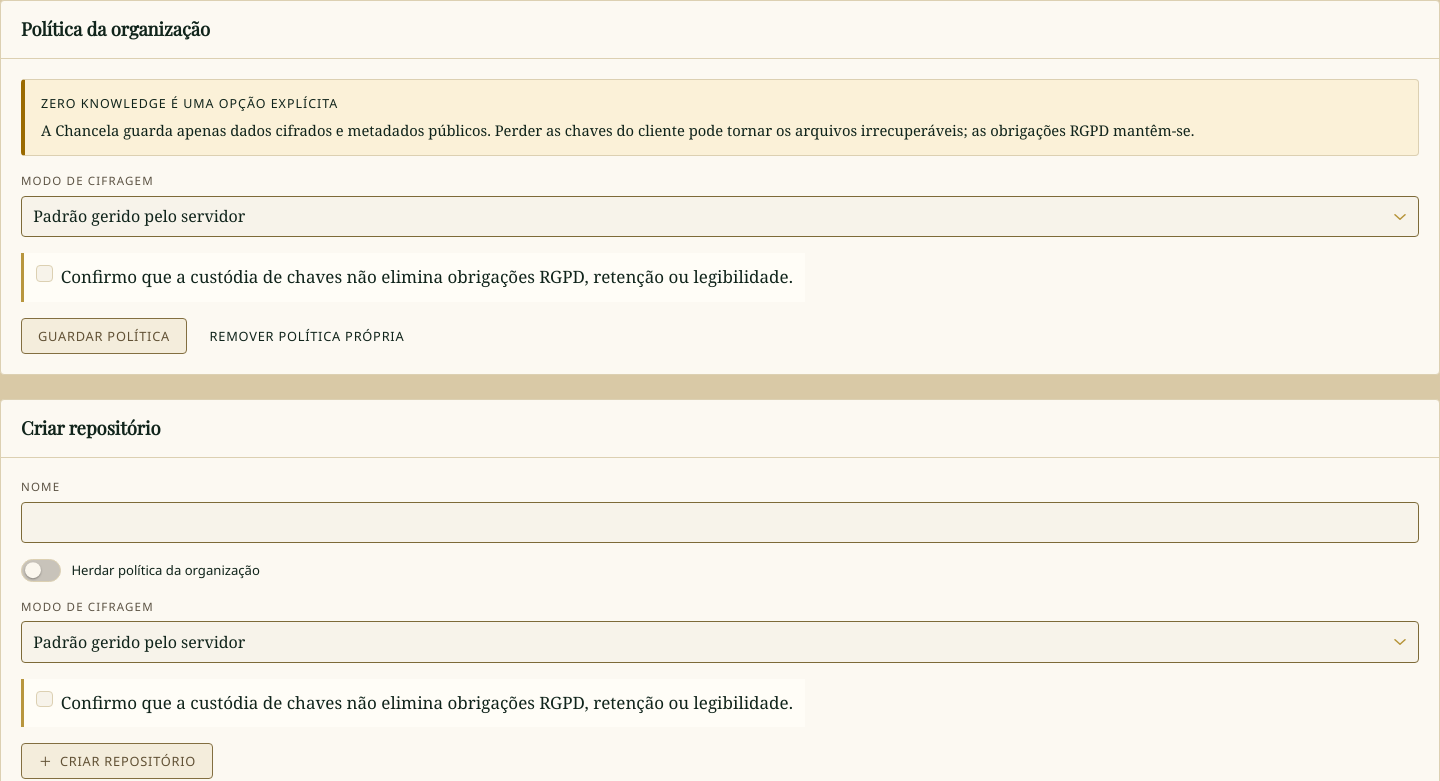
Test: TenantPolicyEditor › reveals custody options only for zero knowledge, and the split plan only when chosen
Select "Zero knowledge gerido pelo cliente" in the dropdown labelled "Modo de cifragem" below "Zero knowledge é uma opção explícita": (720,216) left=21, top=196, right=1419, bottom=237
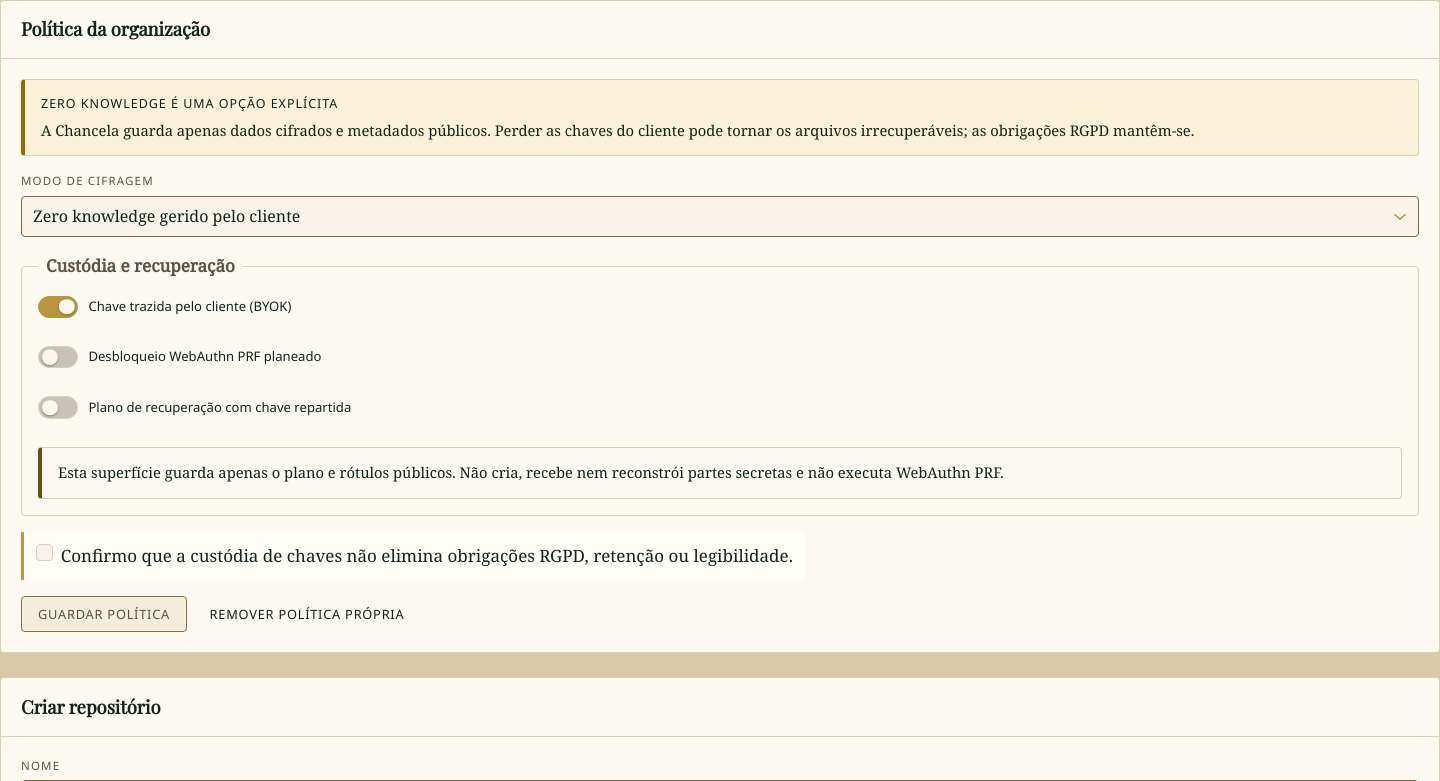
Expected: the field labelled "Limiar necessário" is not shown
Expected: the text "Custódia e recuperação" is shown, left=38, top=253, right=243, bottom=280
Click the switch labelled "Plano de recuperação com chave repartida": (195,408) left=38, top=396, right=351, bottom=419
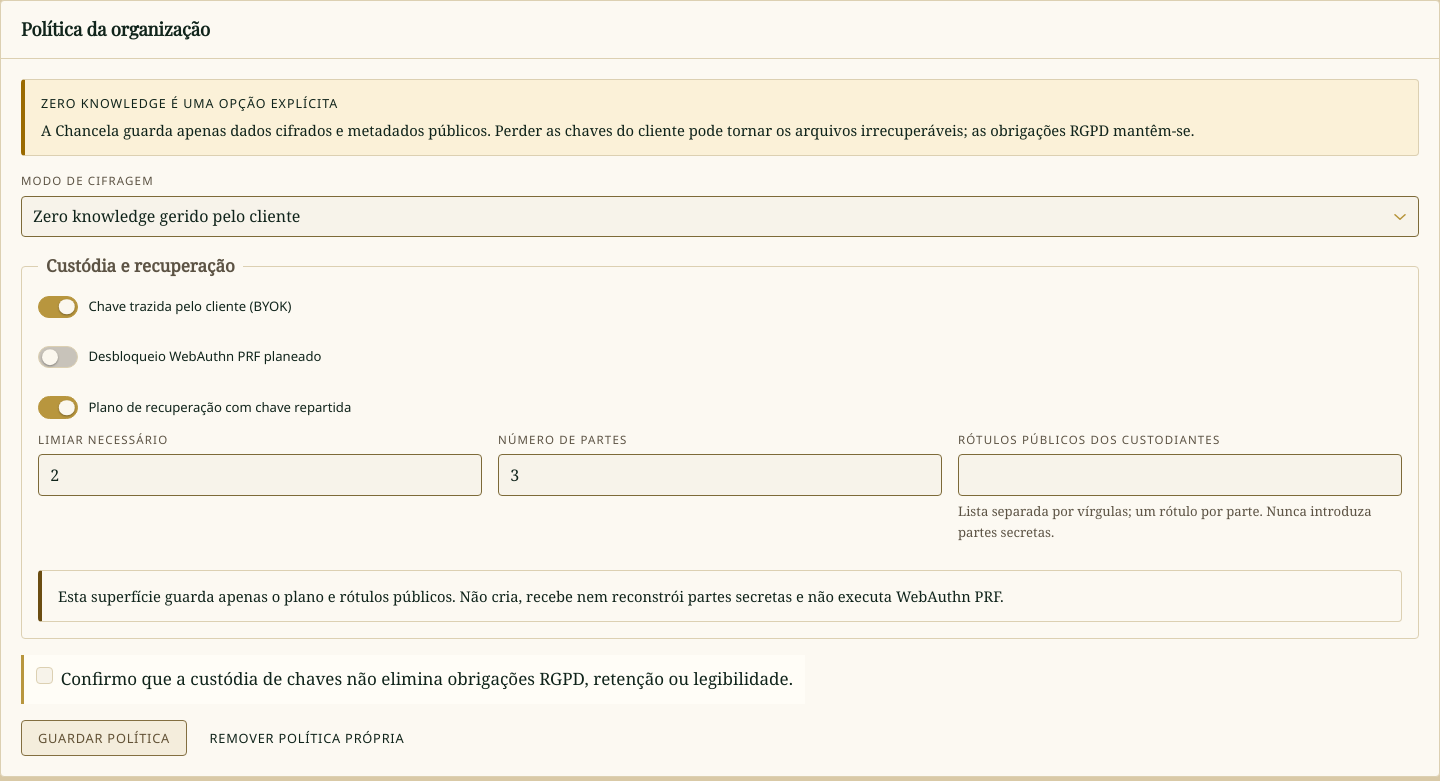
Expected: the number field labelled "Limiar necessário" is shown, left=38, top=454, right=482, bottom=496
Expected: the number field labelled "Número de partes" is shown, left=498, top=454, right=942, bottom=496
Expected: the field labelled "Rótulos públicos dos custodiantes" is shown, left=958, top=454, right=1402, bottom=496
